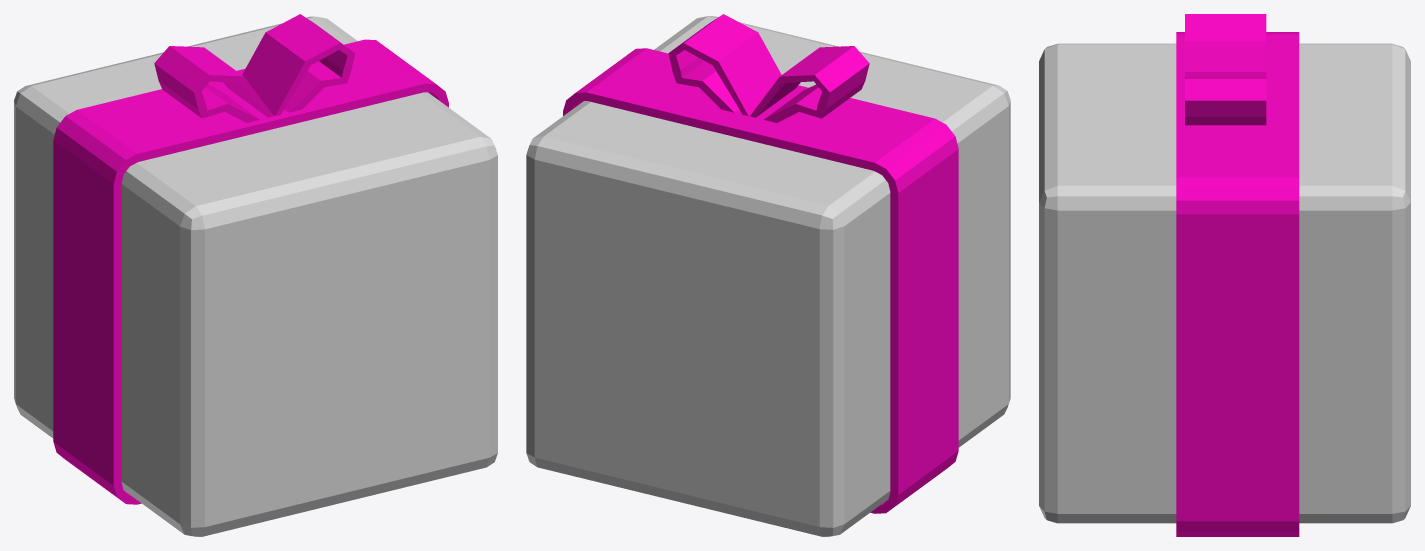
The model's file is qbobaseregalo.fbx.
3 renders of one model, left to right at view 1: azimuth 30°, elevation 25°; view 2: azimuth 150°, elevation 25°; view 3: azimuth 270°, elevation 25°, orthographic.
Parts seen in each view (by area): view 1: Cube.033, Cube.001, Plane.001; view 2: Cube.033, Cube.001, Plane.001; view 3: Cube.033, Cube.001, Plane.001.
Boxes of the visible parts, x1,y1,x2,y2 form: Cube.033: (14,16,497,536); Cube.001: (53,39,448,504); Plane.001: (154,14,355,122); Cube.033: (526,16,1010,536); Cube.001: (563,48,958,513); Plane.001: (668,14,869,122); Cube.033: (1039,43,1410,523); Cube.001: (1176,32,1299,536); Plane.001: (1185,14,1266,125).
Bounding box in the file's own units: 210 × 244 × 198.
